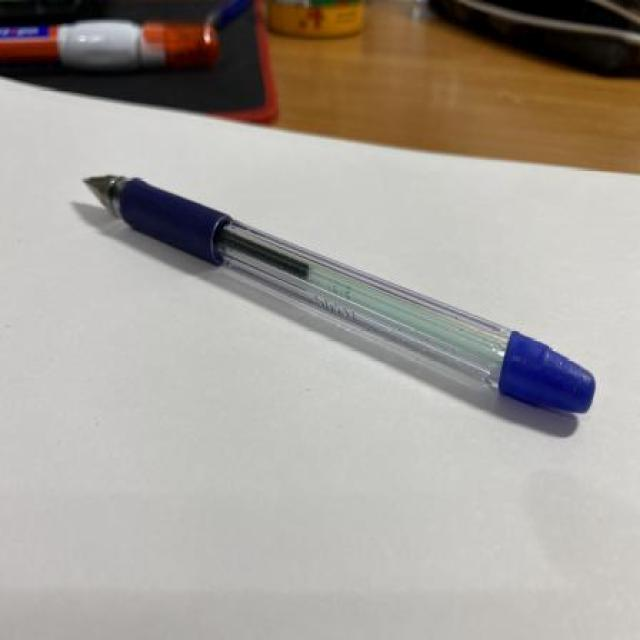pen: (79, 172, 594, 419)
